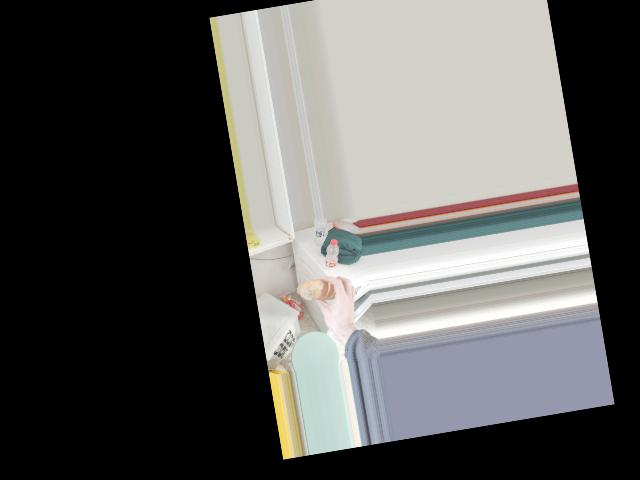sweet_potato: (307, 278, 347, 313)
